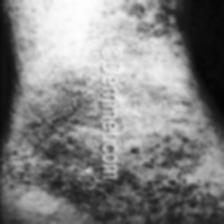Non-Cancerous Skin Condition: (17, 72, 93, 208), (141, 155, 224, 224), (115, 0, 183, 43)
